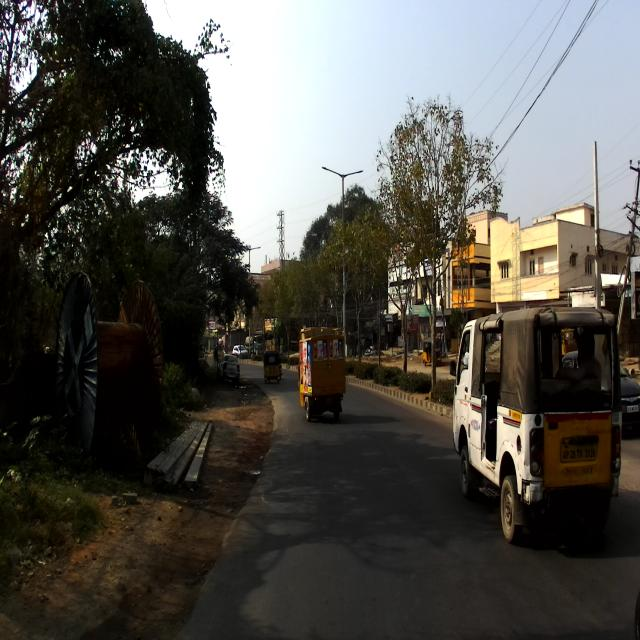auto ahead at: (298, 320, 348, 426)
barrier ahead at: (54, 275, 166, 476)
car ahead at: (448, 311, 625, 537)
